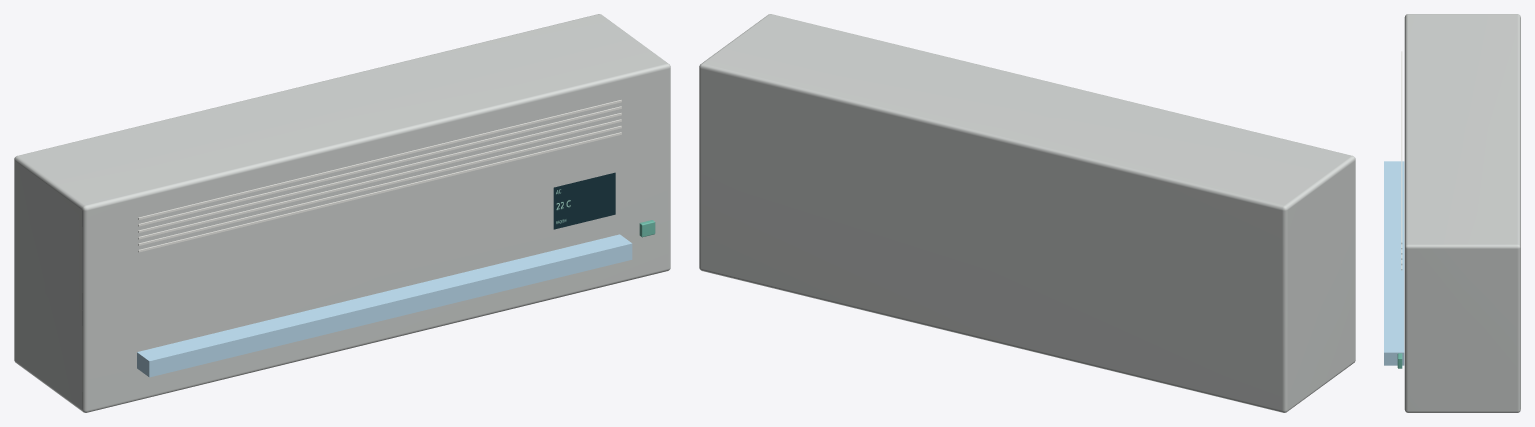
File: air_conditioner.glb
The picture shows the model from 3 angles, left to right: view 1: azimuth 30°, elevation 25°; view 2: azimuth 150°, elevation 25°; view 3: azimuth 270°, elevation 25°; orthographic projection. The views are drawn at different scales.
Visible parts, largest first — view 1: AC_Housing, AC_Outlet_Vane, AC_Thermostat, AC_Intake0, AC_Intake2, AC_Intake1, AC_Intake4, AC_Intake3, AC_Intake5; view 2: AC_Housing; view 3: AC_Housing, AC_Outlet_Vane, AC_Intake5.
Boxes of the visible parts, bbox=[...] form: AC_Housing: bbox=[14, 14, 670, 412]; AC_Outlet_Vane: bbox=[137, 234, 632, 377]; AC_Thermostat: bbox=[553, 172, 615, 229]; AC_Intake0: bbox=[138, 132, 621, 252]; AC_Intake2: bbox=[138, 119, 621, 239]; AC_Intake1: bbox=[138, 126, 621, 245]; AC_Intake4: bbox=[138, 106, 621, 226]; AC_Intake3: bbox=[138, 113, 621, 232]; AC_Intake5: bbox=[138, 100, 621, 219]; AC_Housing: bbox=[699, 14, 1355, 412]; AC_Housing: bbox=[1404, 14, 1520, 412]; AC_Outlet_Vane: bbox=[1384, 161, 1404, 365]; AC_Intake5: bbox=[1401, 51, 1402, 244].
Size of the model in its own units: 0.95 by 0.32 by 0.2355.
Materials: 5 (1 with a texture image).
